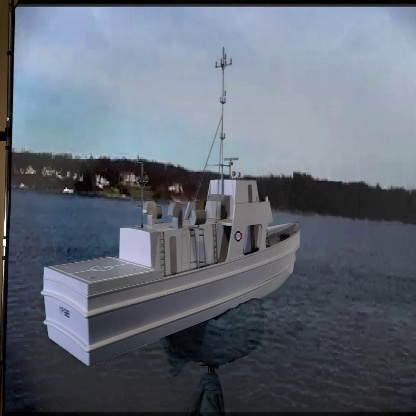YP689: (40, 45, 301, 368)
